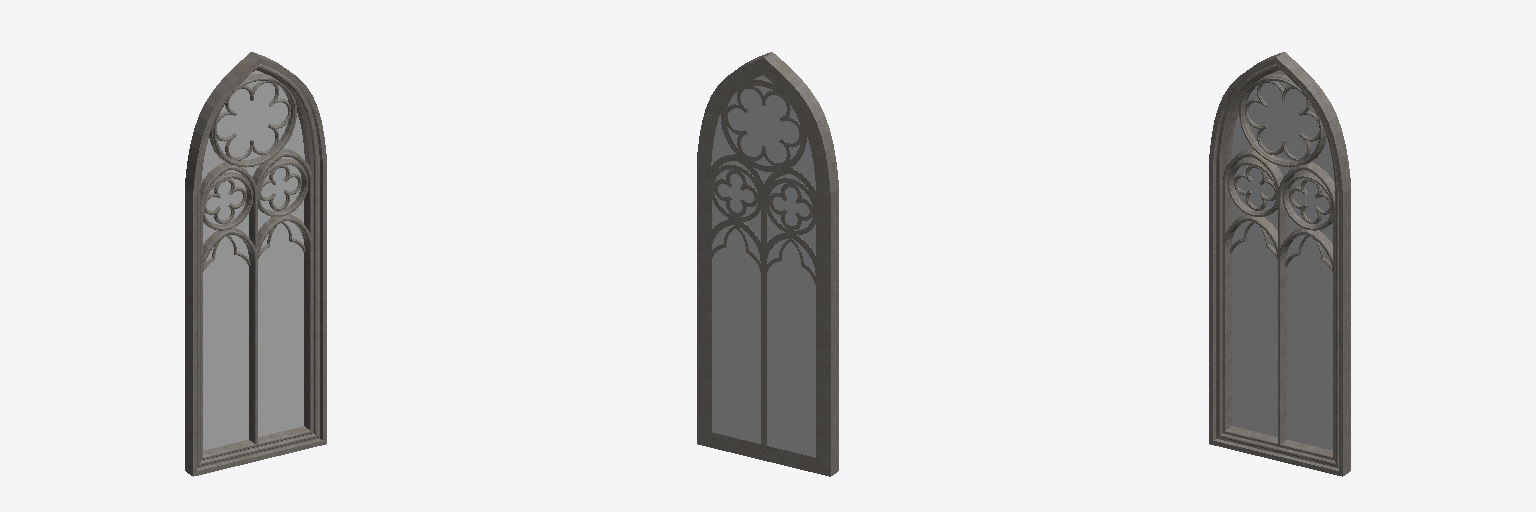
3 views of the same model, side by side, from view 1: azimuth 30°, elevation 25°; view 2: azimuth 150°, elevation 25°; view 3: azimuth 330°, elevation 25° (orthographic).
Parts seen in each view (by area): view 1: window_colored_window_colored_0, window_profile_gothic_window_0, window_inner_gothic_window_0, circle_l_r_gothic_window_0, center_circle_gothic_window_0, 4_open_circle_gothic_window_0, 6_open_circle_gothic_window_0; view 2: window_colored_window_colored_0, window_profile_gothic_window_0, window_inner_gothic_window_0, 4_open_circle_gothic_window_0, circle_l_r_gothic_window_0, center_circle_gothic_window_0, 6_open_circle_gothic_window_0, 3_open_circle_gothic_window_0; view 3: window_colored_window_colored_0, window_profile_gothic_window_0, window_inner_gothic_window_0, circle_l_r_gothic_window_0, center_circle_gothic_window_0, 4_open_circle_gothic_window_0, 6_open_circle_gothic_window_0.
Part boxes in pixels (x1,y1,x2,y2): window_colored_window_colored_0: (201, 70, 304, 450); window_profile_gothic_window_0: (185, 52, 326, 476); window_inner_gothic_window_0: (201, 149, 312, 459); circle_l_r_gothic_window_0: (203, 159, 307, 230); center_circle_gothic_window_0: (209, 73, 296, 167); 4_open_circle_gothic_window_0: (205, 165, 301, 223); 6_open_circle_gothic_window_0: (216, 81, 290, 160); window_colored_window_colored_0: (711, 75, 815, 456); window_profile_gothic_window_0: (697, 52, 838, 476); window_inner_gothic_window_0: (711, 154, 815, 457); 4_open_circle_gothic_window_0: (714, 170, 813, 229); circle_l_r_gothic_window_0: (712, 165, 815, 234); center_circle_gothic_window_0: (721, 79, 806, 172); 6_open_circle_gothic_window_0: (726, 86, 800, 165); 3_open_circle_gothic_window_0: (712, 225, 815, 284); window_colored_window_colored_0: (1231, 70, 1334, 450); window_profile_gothic_window_0: (1209, 52, 1350, 476); window_inner_gothic_window_0: (1223, 149, 1334, 459); circle_l_r_gothic_window_0: (1228, 159, 1332, 230); center_circle_gothic_window_0: (1239, 73, 1326, 167); 4_open_circle_gothic_window_0: (1234, 165, 1330, 223); 6_open_circle_gothic_window_0: (1245, 81, 1319, 160).
Bounding box in the file's own units: 2.31 × 6.63 × 0.2579.
2 materials, 1 textured.